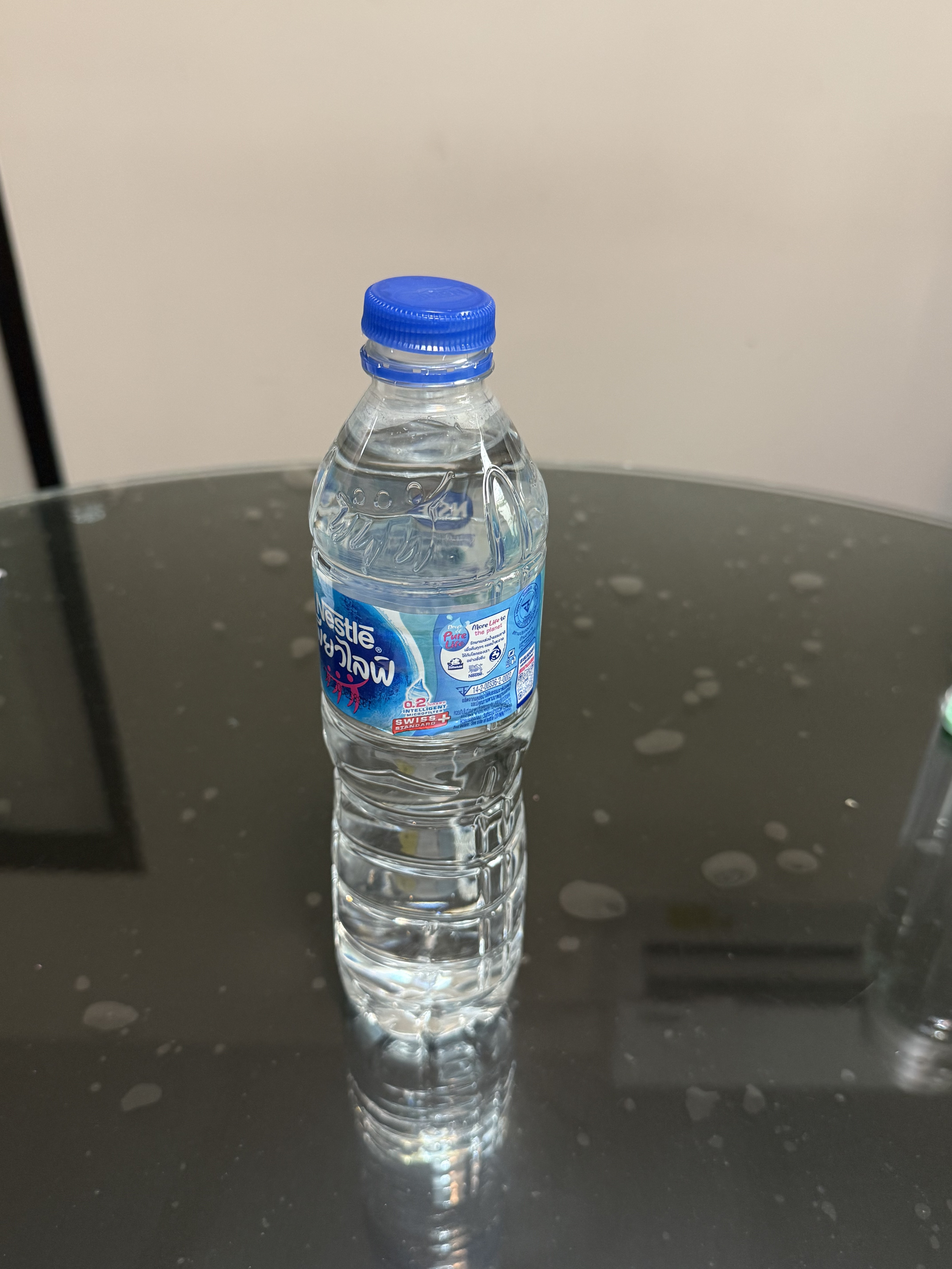half_cap: (355, 270, 499, 385)
